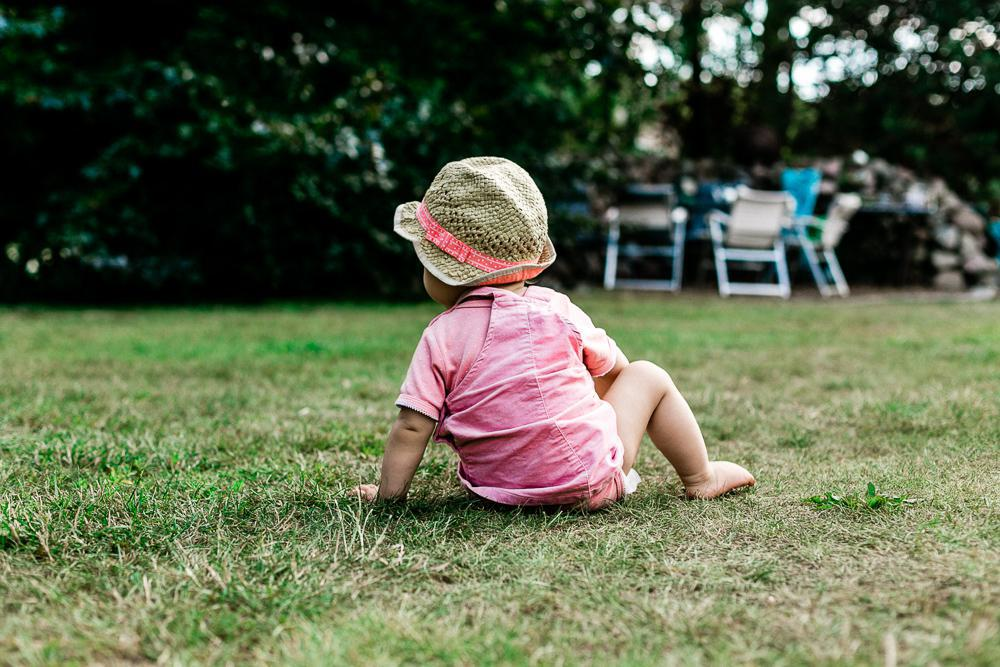child: (318, 130, 792, 544)
